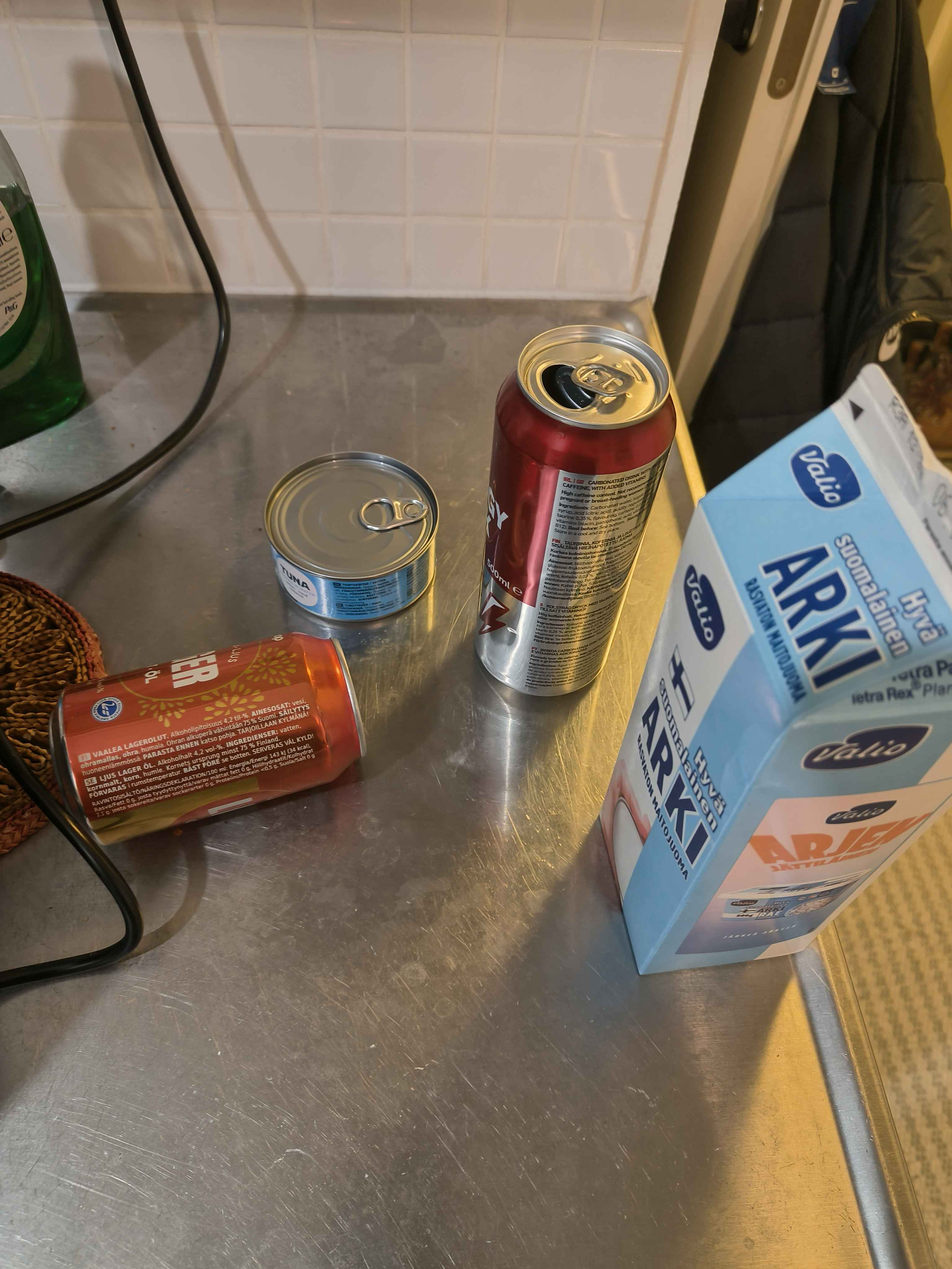Dryckeskartong: (600, 363, 952, 969)
Konservburk: (264, 451, 440, 624)
Pantburk: (473, 323, 676, 697), (48, 631, 368, 846)
